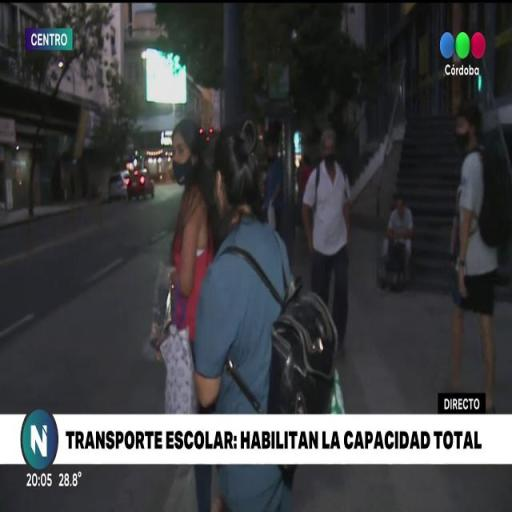person: (198, 134, 294, 511), (163, 117, 218, 507), (442, 111, 512, 417), (302, 127, 355, 368), (264, 136, 287, 240)
